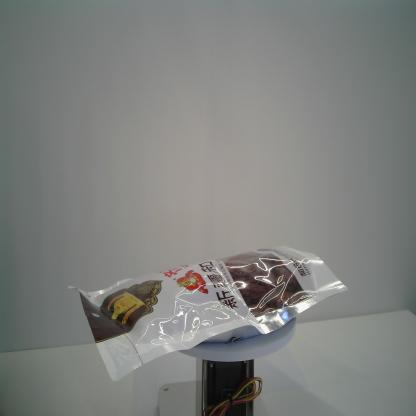Dried Food: (64, 243, 351, 383)
